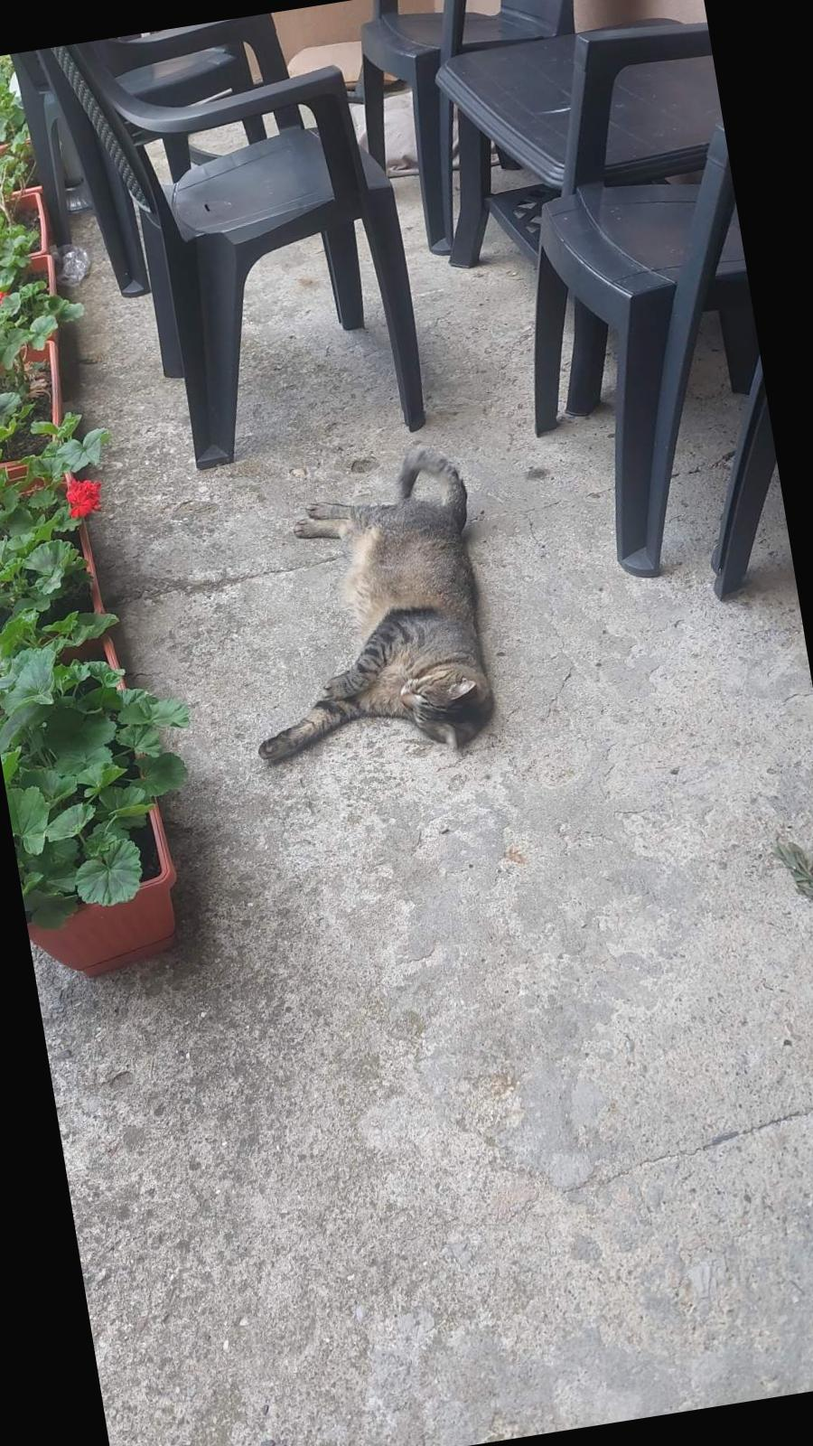macka: (213, 438, 508, 781)
